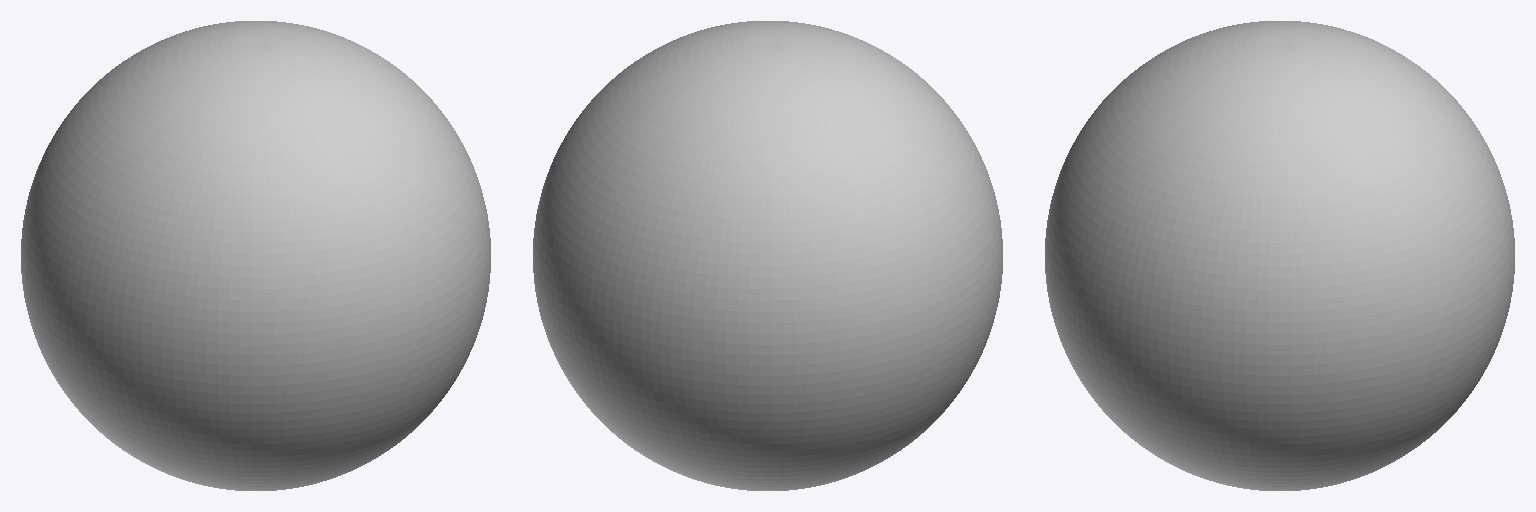
File: SphereUV.obj
3 renders of one model, left to right at view 1: azimuth 30°, elevation 25°; view 2: azimuth 150°, elevation 25°; view 3: azimuth 270°, elevation 25°, orthographic.
Parts seen in each view (by area): view 1: Sphere; view 2: Sphere; view 3: Sphere.
Part boxes in pixels (bbox=[...]): Sphere: bbox=[21, 21, 490, 490]; Sphere: bbox=[533, 21, 1002, 490]; Sphere: bbox=[1045, 21, 1514, 490].
Bounding box in the file's own units: 2 × 1.99 × 2.